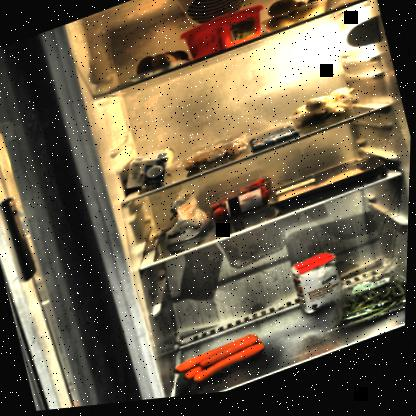butter: (178, 4, 269, 70)
carrot: (171, 334, 271, 395)
chicken: (271, 166, 373, 220)
chocolate: (248, 126, 302, 159)
eggs: (133, 43, 195, 84)
green_beans: (322, 266, 408, 346)
milk: (119, 146, 183, 198)
mushrooms: (289, 88, 366, 142)
potato: (258, 0, 333, 41)
shrimp: (180, 140, 251, 180)
strawberries: (205, 180, 278, 230)
